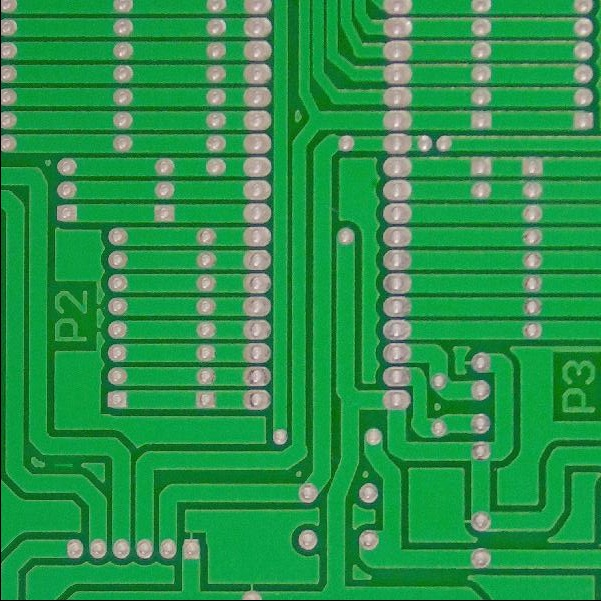spurious_copper: (50, 461, 77, 473)
